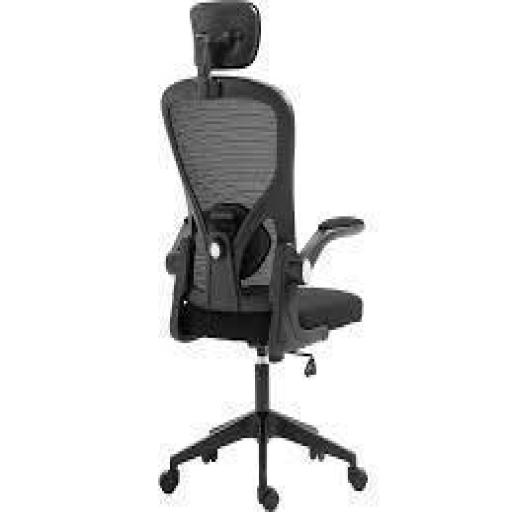chair: (150, 0, 373, 509)
